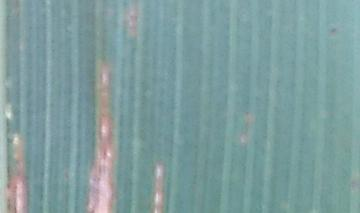tarspot: (330, 25, 339, 39)
